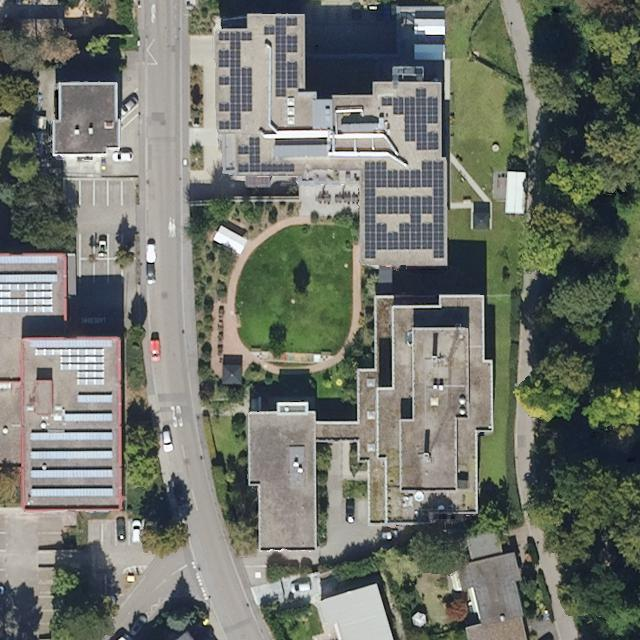PV: (26, 388, 116, 501), (360, 155, 445, 262), (376, 85, 443, 154), (26, 339, 115, 388), (215, 29, 256, 134), (261, 13, 303, 101), (1, 254, 60, 316), (231, 133, 297, 176)
